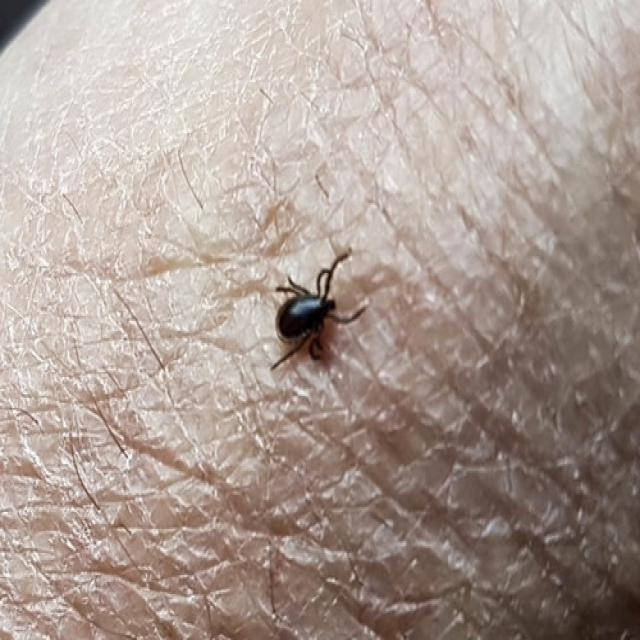Ixodes Ricinus-M: (270, 247, 371, 372)
